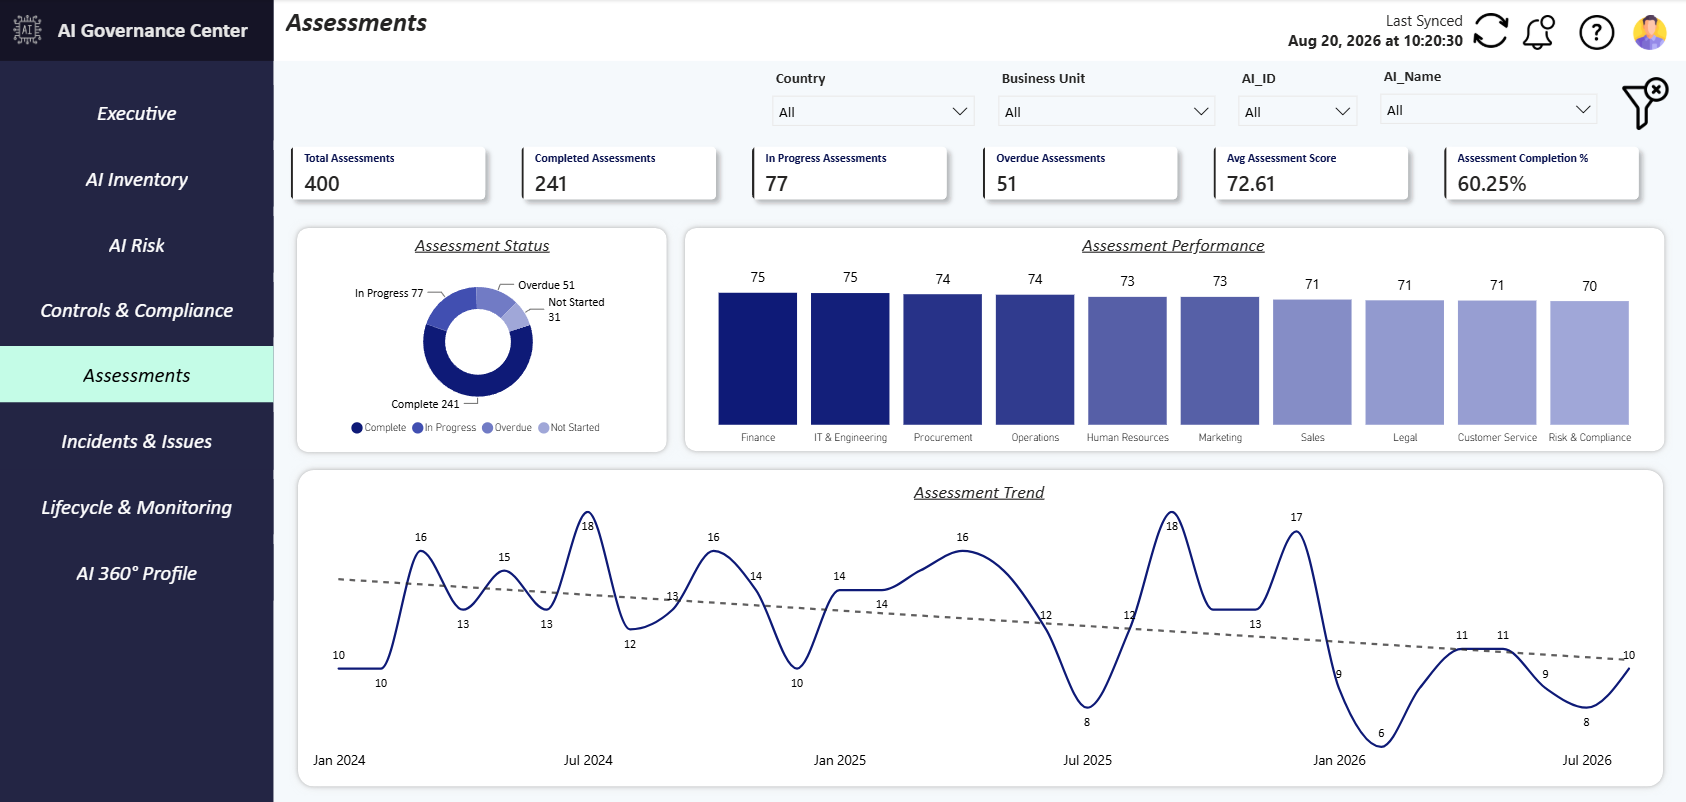

The page's visual inventory and layout, read from the dashboard file:
{"tool":"powerbi","page":{"name":"Assessments","canvas":[1500,715],"ordinal":4},"visuals":[{"type":"shape","box":[0,0,1500,720.5],"z":0},{"type":"shape","box":[0,0,243.4,715.7],"z":1000},{"type":"shape","box":[0,0,243.4,55.2],"z":2000},{"type":"shape","box":[243.4,0,1256.6,55.2],"z":3000},{"type":"textbox","box":[46,10.2,186.1,33.7],"z":4000},{"type":"image","box":[1446.8,14.3,39.5,31.1],"z":5000},{"type":"image","box":[1347.6,14.3,38.6,31.1],"z":6000},{"type":"cardVisual","fields":{"Data":["_Measures.Total Assessments","_Measures.Completed Assessments","_Measures.In Progress Assessments","_Measures.Overdue Assessments","_Measures.Avg Assessment Score","_Measures.Assessment Completion %"]},"box":[229,102.2,1257.7,105.3],"z":7000},{"type":"shape","box":[255.8,195.4,344.6,215.2],"z":8000},{"type":"donutChart","fields":{"Category":["Fact_Assessment.Assessment_Status"],"Y":["Count(Fact_Assessment.Assessment_ID)"]},"box":[265.3,236.9,318.1,161.4],"z":9000},{"type":"textbox","box":[332.3,203.9,192.4,38],"z":10000},{"type":"shape","box":[600.4,195.4,886.4,214.3],"z":11000},{"type":"clusteredColumnChart","fields":{"Category":["AI_Inventory.Business_Unit"],"Y":["_Measures.Avg Assessment Score"]},"box":[600.4,222.8,885.5,180.3],"z":12000},{"type":"textbox","box":[925.1,203.9,235.4,37.7],"z":13000},{"type":"shape","box":[256.8,410.6,1229.1,297.4],"z":14000},{"type":"lineChart","fields":{"Y":["Count(Fact_Assessment.Assessment_ID)"],"Category":["Calander Table.Year_Month.Variation.Date Hierarchy.Year","Calander Table.Year_Month.Variation.Date Hierarchy.Quarter","Calander Table.Year_Month.Variation.Date Hierarchy.Month","Calander Table.Year_Month.Variation.Date Hierarchy.Day"]},"box":[271.9,441.8,1202.6,253],"z":15000},{"type":"textbox","box":[757.1,422.9,226,38],"z":16000},{"type":"image","box":[9.2,14.3,30.7,25.6],"z":17000},{"type":"image","box":[1399.8,14.3,39,31],"z":18000},{"type":"textbox","box":[1100.7,5.1,204.2,44.9],"z":19000},{"type":"image","box":[1305,12.3,39,31],"z":20000},{"type":"shape","box":[0,76.2,242.9,49.5],"z":21000},{"type":"shape","box":[0,484,243,50],"z":22000},{"type":"shape","box":[0,426.5,243,49],"z":23000},{"type":"shape","box":[0,192.6,243,50],"z":24000},{"type":"shape","box":[0,367,243,51.1],"z":25000},{"type":"shape","box":[0,308.5,243,50],"z":26000},{"type":"shape","box":[0,251.1,243,49],"z":27000},{"type":"shape","box":[0,134.1,243,50],"z":28000},{"type":"image","box":[1439,68,46.8,49.5],"z":29000},{"type":"textbox","box":[249.1,0,146.6,61],"z":30000},{"type":"slicer","fields":{"Values":["AI_Inventory.Country"]},"box":[676.3,57.1,199.6,69.7],"z":31000},{"type":"slicer","fields":{"Values":["AI_Inventory.Business_Unit"]},"box":[876.9,56.6,213.1,70.4],"z":32000},{"type":"slicer","fields":{"Values":["AI_Inventory.AI_ID"]},"box":[1090,57.1,125.6,70.4],"z":33000},{"type":"slicer","fields":{"Values":["AI_Inventory.AI_Name"]},"box":[1216.6,55.2,213.1,70.4],"z":34000}]}

Visuals, with their boxes on the page's 1500x715 design canvas (x1, y1, x2, y2). These are canvas units, not pixel positions in the 1686x802 screenshot, which may show the page scaled, cropped or inside an application window:
shape: [x1=0, y1=0, x2=1500, y2=720]
shape: [x1=0, y1=0, x2=243, y2=716]
shape: [x1=0, y1=0, x2=243, y2=55]
shape: [x1=243, y1=0, x2=1500, y2=55]
textbox: [x1=46, y1=10, x2=232, y2=44]
image: [x1=1447, y1=14, x2=1486, y2=45]
image: [x1=1348, y1=14, x2=1386, y2=45]
cardVisual - _Measures.Total Assessments x _Measures.Completed Assessments: [x1=229, y1=102, x2=1487, y2=208]
shape: [x1=256, y1=195, x2=600, y2=411]
donutChart - Fact_Assessment.Assessment_Status x Count(Fact_Assessment.Assessment_ID): [x1=265, y1=237, x2=583, y2=398]
textbox: [x1=332, y1=204, x2=525, y2=242]
shape: [x1=600, y1=195, x2=1487, y2=410]
clusteredColumnChart - AI_Inventory.Business_Unit x _Measures.Avg Assessment Score: [x1=600, y1=223, x2=1486, y2=403]
textbox: [x1=925, y1=204, x2=1160, y2=242]
shape: [x1=257, y1=411, x2=1486, y2=708]
lineChart - Count(Fact_Assessment.Assessment_ID) x Calander Table.Year_Month.Variation.Date Hierarchy.Year: [x1=272, y1=442, x2=1474, y2=695]
textbox: [x1=757, y1=423, x2=983, y2=461]
image: [x1=9, y1=14, x2=40, y2=40]
image: [x1=1400, y1=14, x2=1439, y2=45]
textbox: [x1=1101, y1=5, x2=1305, y2=50]
image: [x1=1305, y1=12, x2=1344, y2=43]
shape: [x1=0, y1=76, x2=243, y2=126]
shape: [x1=0, y1=484, x2=243, y2=534]
shape: [x1=0, y1=426, x2=243, y2=476]
shape: [x1=0, y1=193, x2=243, y2=243]
shape: [x1=0, y1=367, x2=243, y2=418]
shape: [x1=0, y1=308, x2=243, y2=358]
shape: [x1=0, y1=251, x2=243, y2=300]
shape: [x1=0, y1=134, x2=243, y2=184]
image: [x1=1439, y1=68, x2=1486, y2=118]
textbox: [x1=249, y1=0, x2=396, y2=61]
slicer - AI_Inventory.Country: [x1=676, y1=57, x2=876, y2=127]
slicer - AI_Inventory.Business_Unit: [x1=877, y1=57, x2=1090, y2=127]
slicer - AI_Inventory.AI_ID: [x1=1090, y1=57, x2=1216, y2=128]
slicer - AI_Inventory.AI_Name: [x1=1217, y1=55, x2=1430, y2=126]
